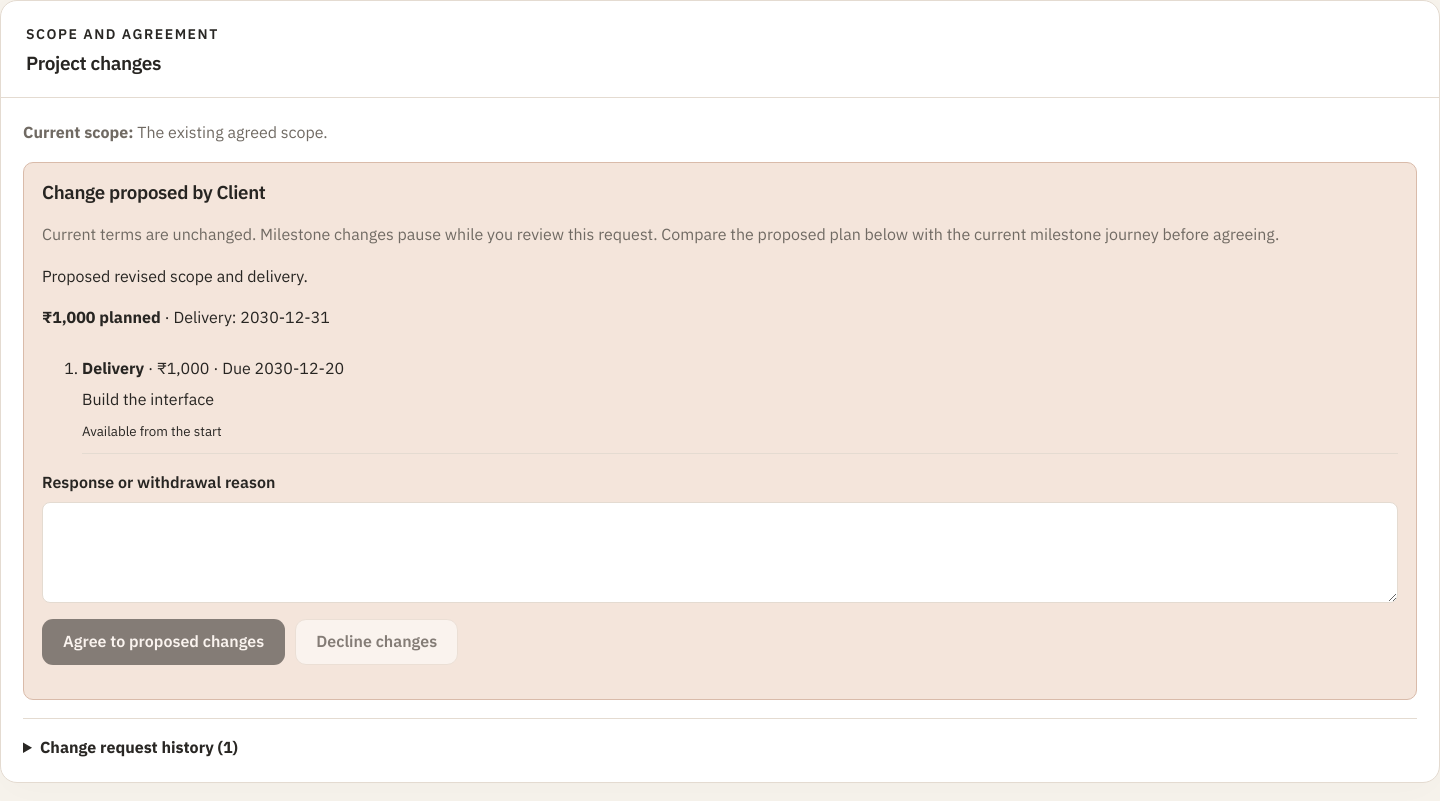
other participant can decline and sees conflict errors without silently applying changes
Step 1. Type "We should keep the current agreement." into the text box named "Project change response" → (720, 553), box x1=42 y1=502 x2=1398 y2=603
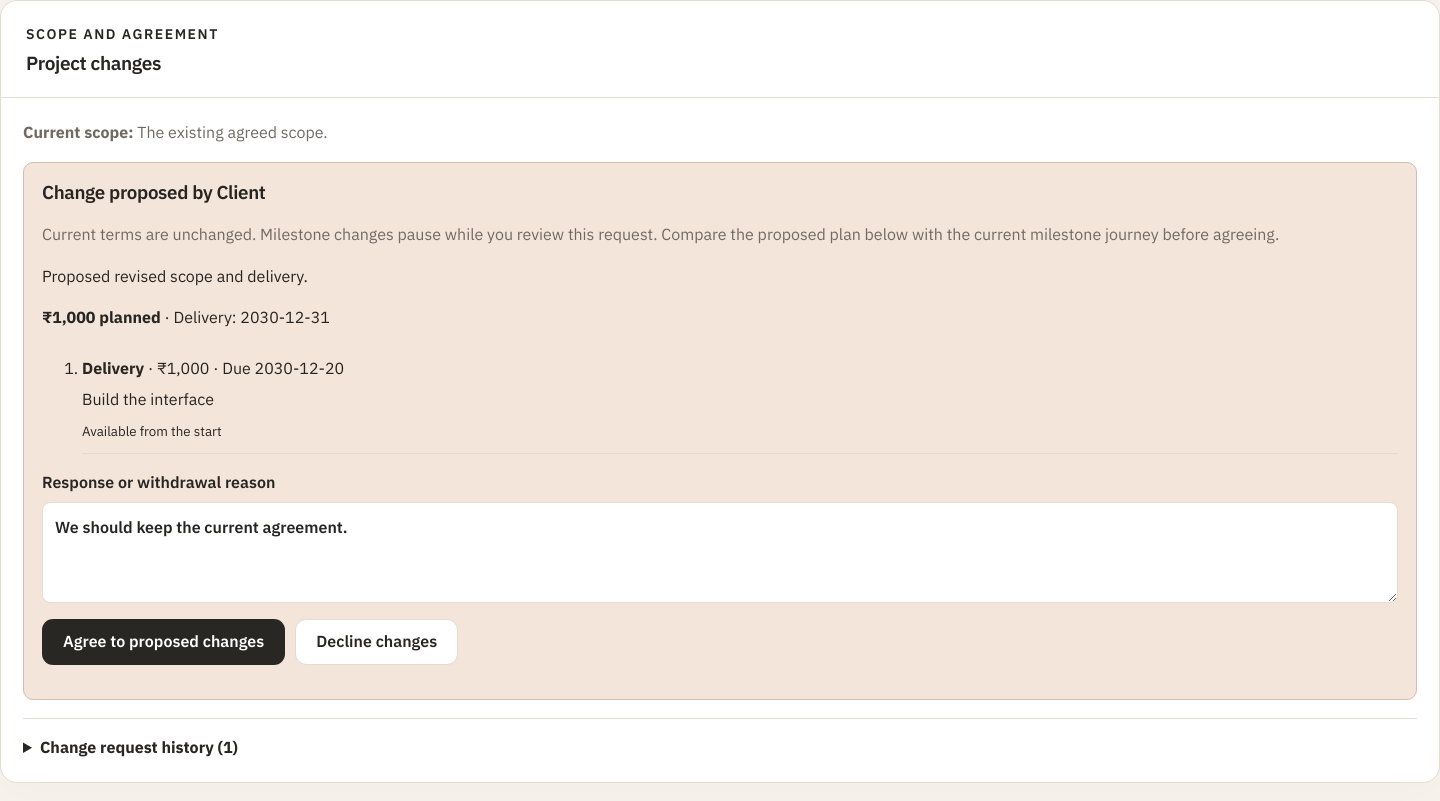
Step 2. Click the button "Decline changes" → click(377, 642), box x1=295 y1=619 x2=458 y2=665
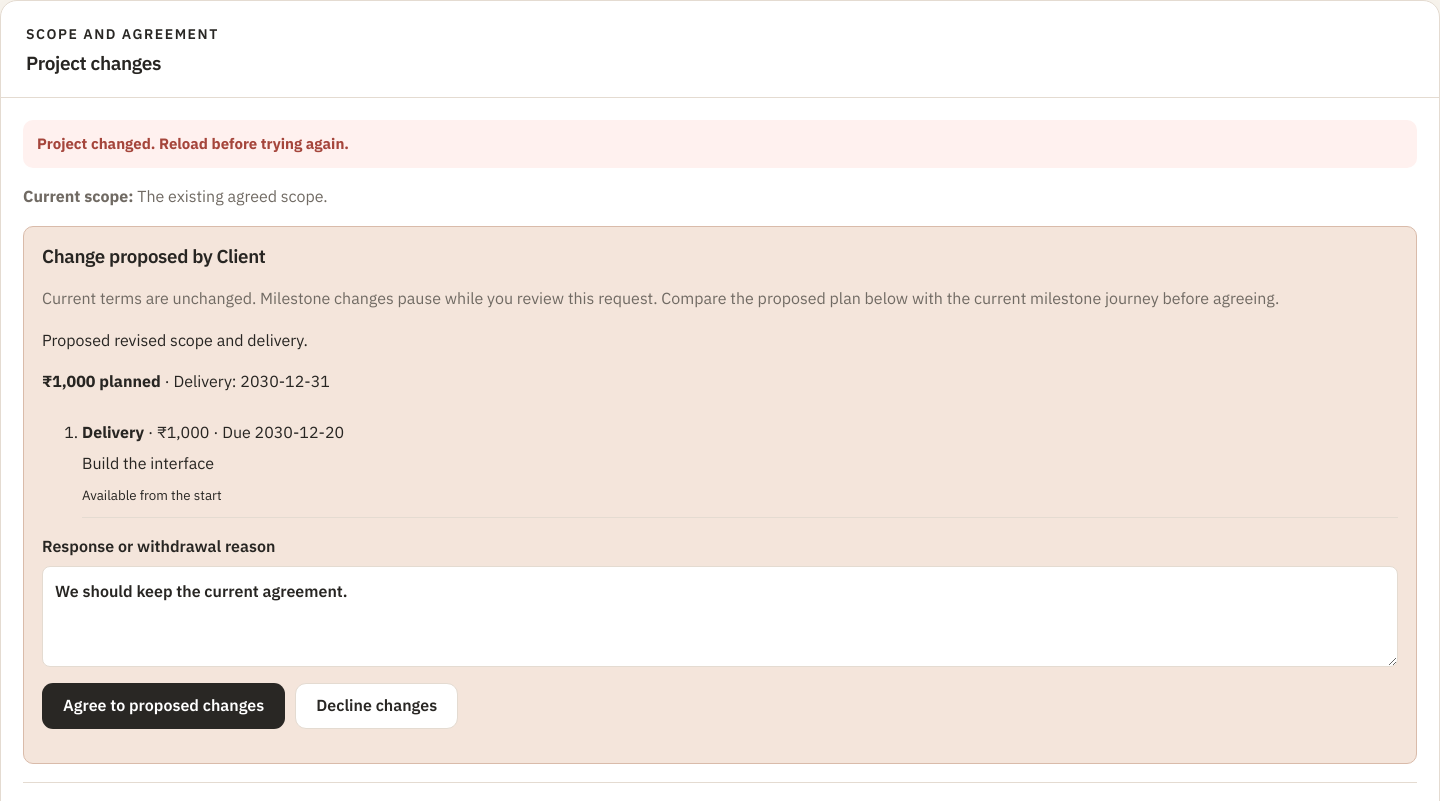
Check: the message shows "Project changed", box x1=37 y1=134 x2=349 y2=154
